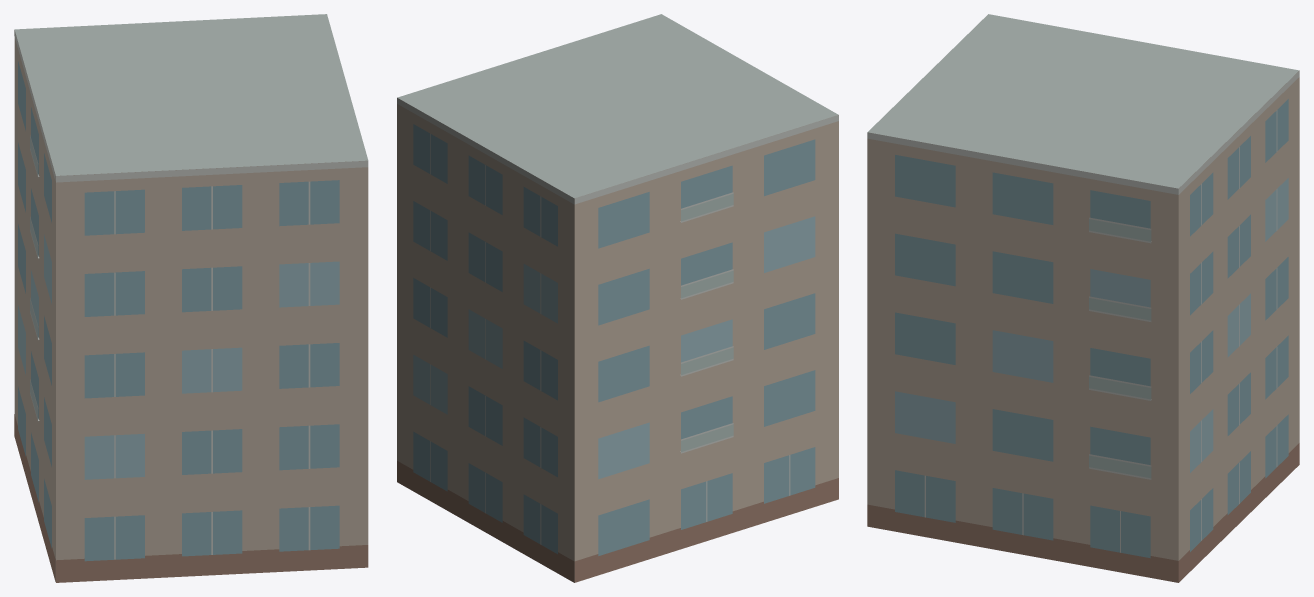
Rendered from survey-upis-32653505.glb.
The picture shows the model from 3 angles, left to right: view 1: azimuth 30°, elevation 25°; view 2: azimuth 150°, elevation 25°; view 3: azimuth 270°, elevation 25°; orthographic projection. The views are drawn at different scales.
Visible parts, largest first — view 1: survey-upis-32653505.tmp; view 2: survey-upis-32653505.tmp; view 3: survey-upis-32653505.tmp.
Boxes of the visible parts, bbox=[...] form: survey-upis-32653505.tmp: bbox=[14, 14, 368, 582]; survey-upis-32653505.tmp: bbox=[397, 14, 838, 582]; survey-upis-32653505.tmp: bbox=[867, 14, 1299, 582].
Bounding box in the file's own units: 14.45 × 15.2 × 15.11.
